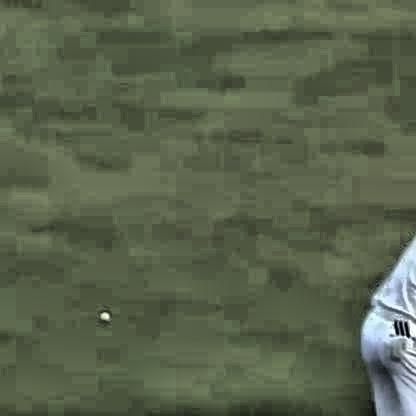golfball: (96, 311, 109, 321)
